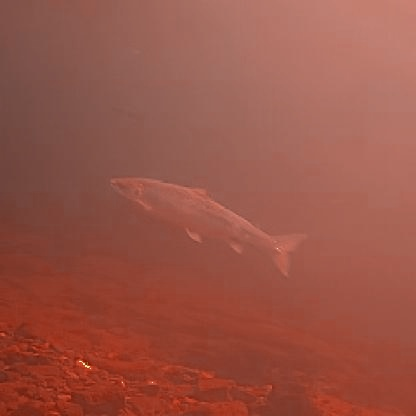salmon: (102, 170, 309, 277)
